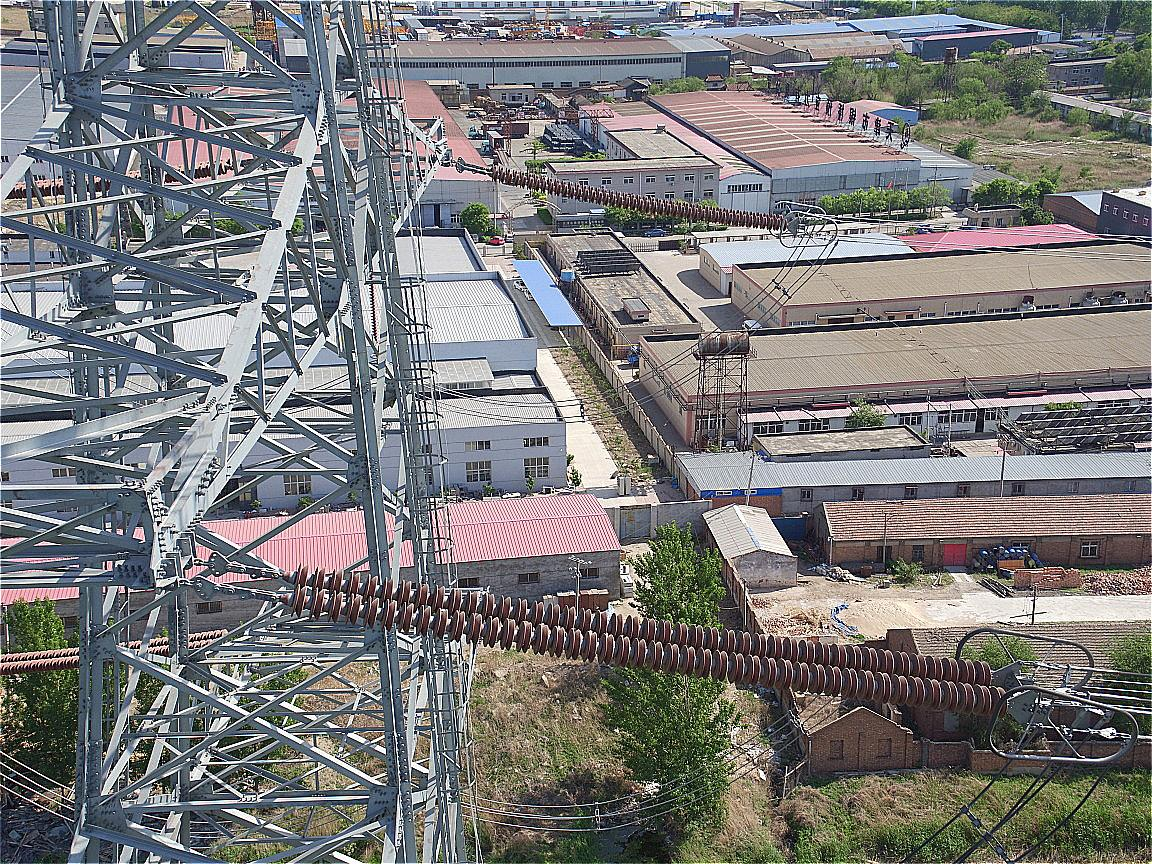insultor2: (293, 564, 1010, 717), (490, 165, 788, 234)
